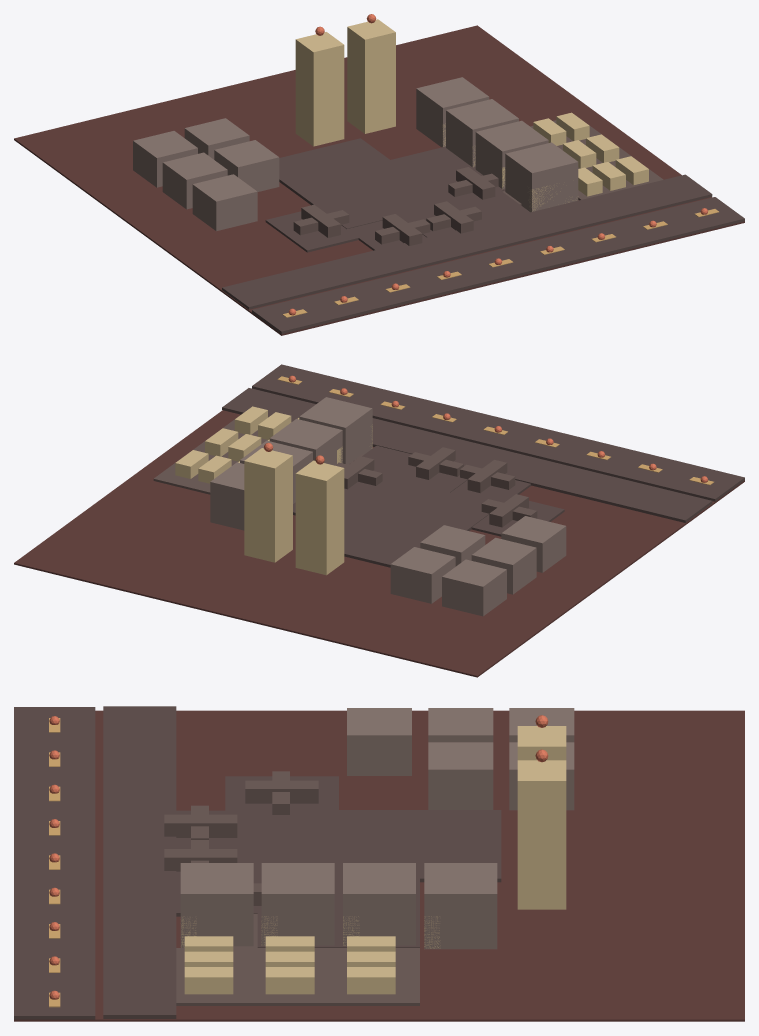
Rendered from stage_25.glb.
3 views of the same model, one above another, from view 1: azimuth 30°, elevation 25°; view 2: azimuth 150°, elevation 25°; view 3: azimuth 270°, elevation 25° (orthographic). The views are drawn at different scales.
Visible parts, largest first — view 1: geometry_0; view 2: geometry_0; view 3: geometry_0.
Boxes of the visible parts, x1,y1,x2,y2 form: geometry_0: [14, 14, 744, 335]; geometry_0: [14, 364, 744, 677]; geometry_0: [14, 706, 744, 1021].
Bounding box in the file's own units: 9 × 2.06 × 9.
